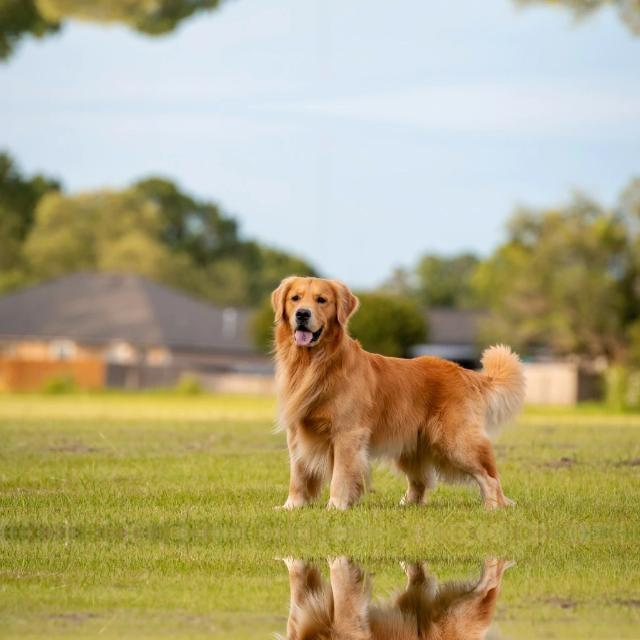dog: (261, 260, 531, 512), (261, 554, 531, 640)
